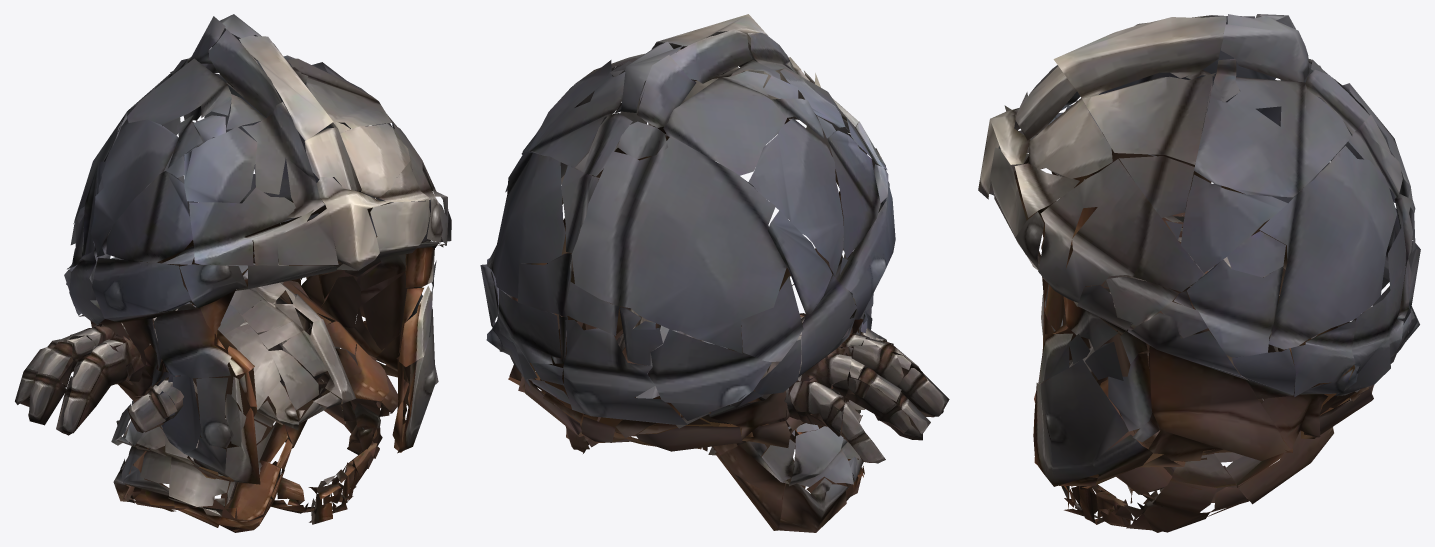
The model's file is parts_n.glb.
3 views of the same model, side by side, from view 1: azimuth 30°, elevation 25°; view 2: azimuth 150°, elevation 25°; view 3: azimuth 270°, elevation 25° (orthographic). The views are drawn at different scales.
Parts seen in each view (by area): view 1: helm, pauldron, gauntlet; view 2: helm, gauntlet, pauldron; view 3: helm, pauldron.
Boxes of the visible parts, x1,y1,x2,y2 form: helm: (64,14,451,484); pauldron: (111,263,398,532); gauntlet: (15,264,326,435); helm: (480,14,895,451); gauntlet: (619,307,949,463); pauldron: (565,323,865,532); helm: (978,14,1420,486); pauldron: (1061,261,1333,532).
Bounding box in the file's own units: 0.2991 × 0.3239 × 0.2651.
Materials: 1 (1 with a texture image).
